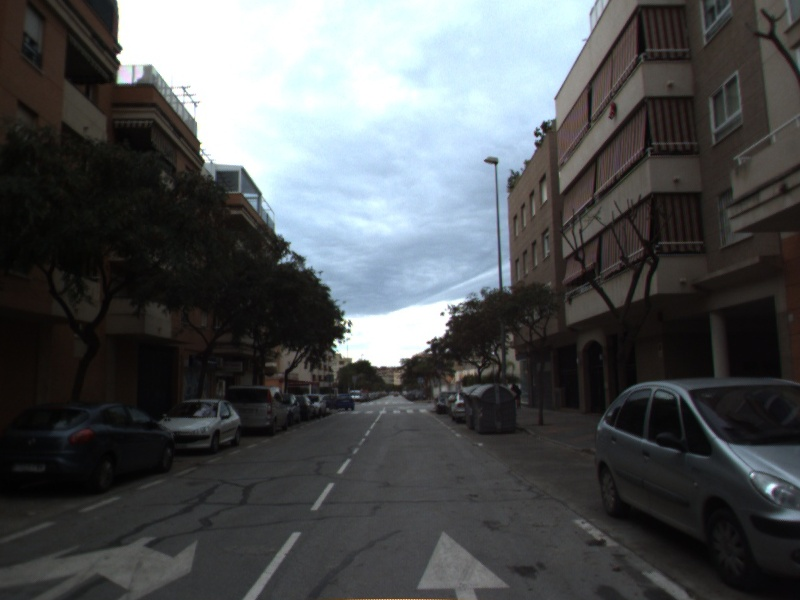STRAIGHT: (412, 527, 515, 600)
